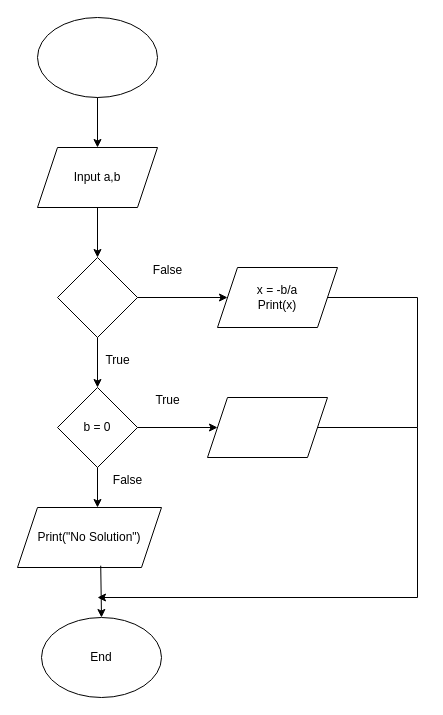
Some shapes in this 443 by 715 pixel diagram are drawn without their labels. The shapes that lost their labels are listed below. From the top down, each one's centre as x and y in pixels, then its label:
point 97,57: Start
point 97,297: a = 0
point 267,427: Print("Infinite Solutions)
